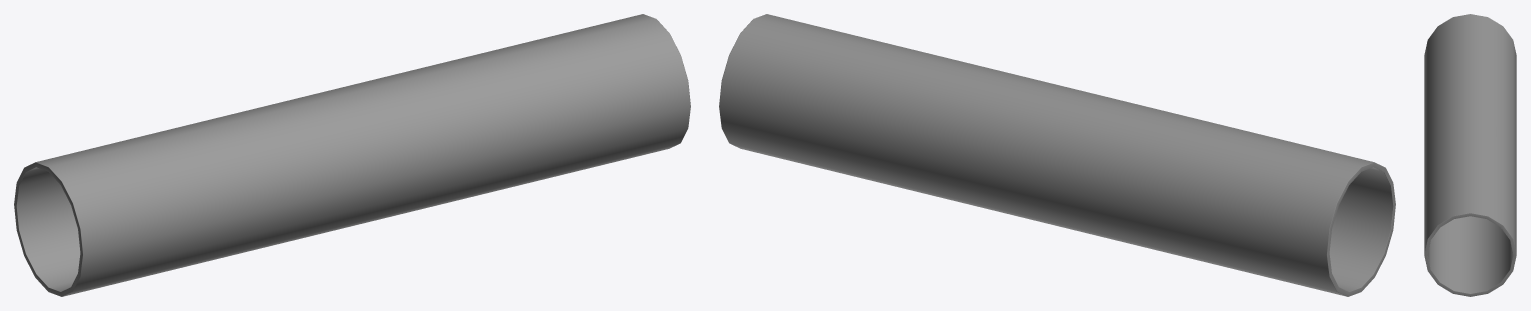
File: SM_Pipe_03.fbx
3 renders of one model, left to right at view 1: azimuth 30°, elevation 25°; view 2: azimuth 150°, elevation 25°; view 3: azimuth 270°, elevation 25°, orthographic. The views are drawn at different scales.
Visible parts, largest first — view 1: SM_Pipe_03; view 2: SM_Pipe_03; view 3: SM_Pipe_03.
Part boxes in pixels (<box>): SM_Pipe_03: <box>14,14,690,296</box>; SM_Pipe_03: <box>719,14,1395,296</box>; SM_Pipe_03: <box>1424,14,1516,296</box>.
Size of the model in its own units: 207 by 40.69 by 40.69.
1 material, 1 textured.
